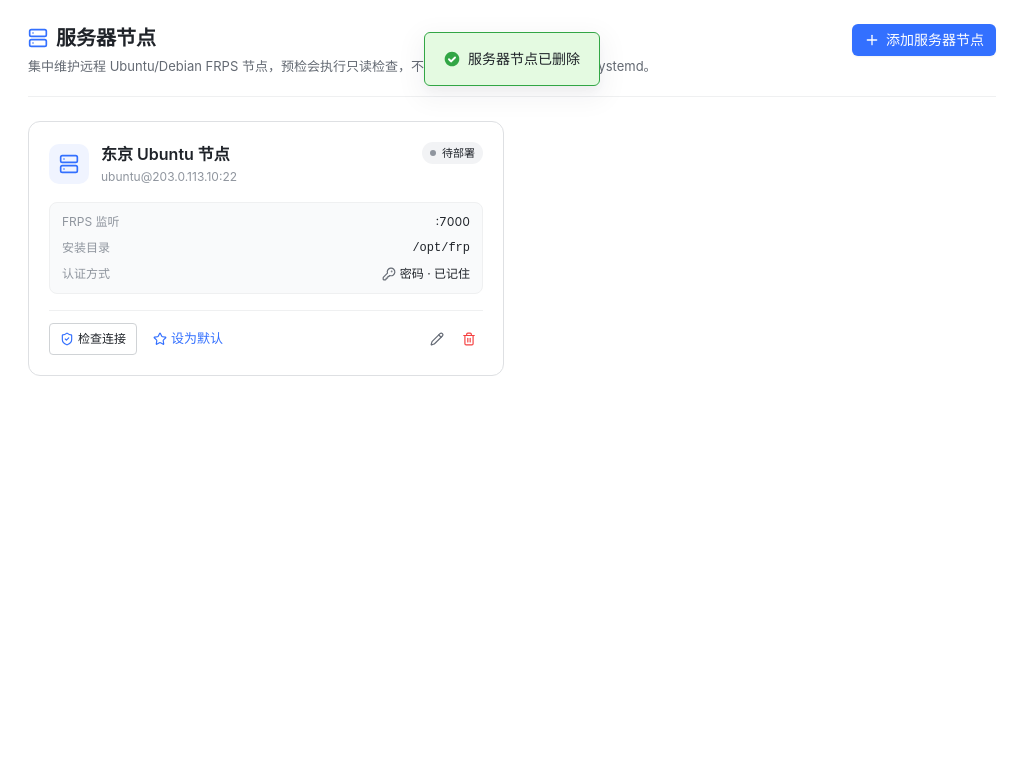
Scenario: ServerNodeManagerPage › 确认指纹后重试预检，仅保存公开结果且更新为可部署
This screenshot has width=1024, height=768.
Click the button "检查连接". click: (93, 339)
box: [49, 323, 137, 355]
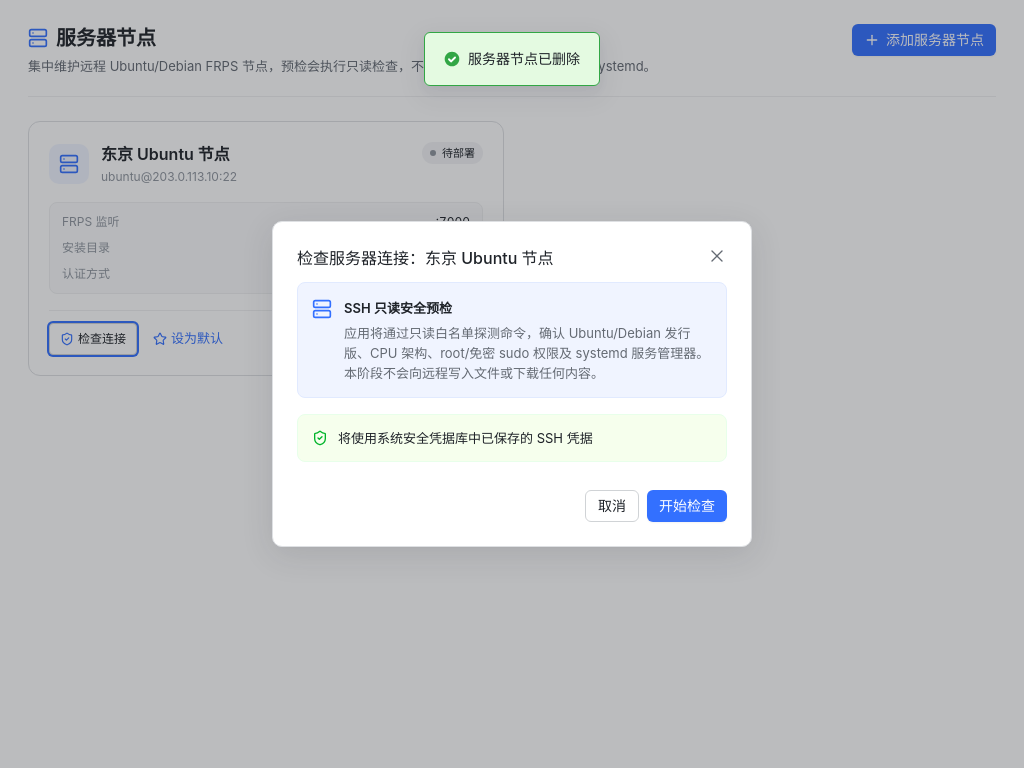
Click the button "开始检查". click: (687, 506)
box: [647, 490, 727, 522]
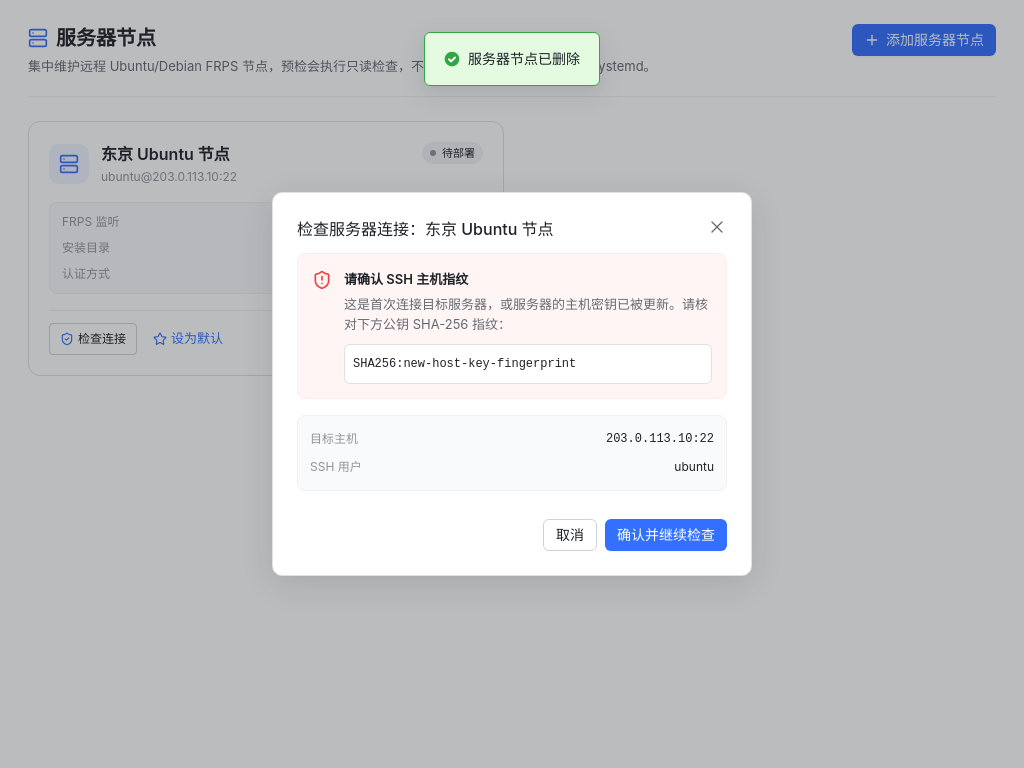
Result: the heading "请确认 SSH 主机指纹" is shown at [344, 271, 468, 287]
Click the button "确认并继续检查". click: (666, 535)
box: [605, 519, 727, 551]
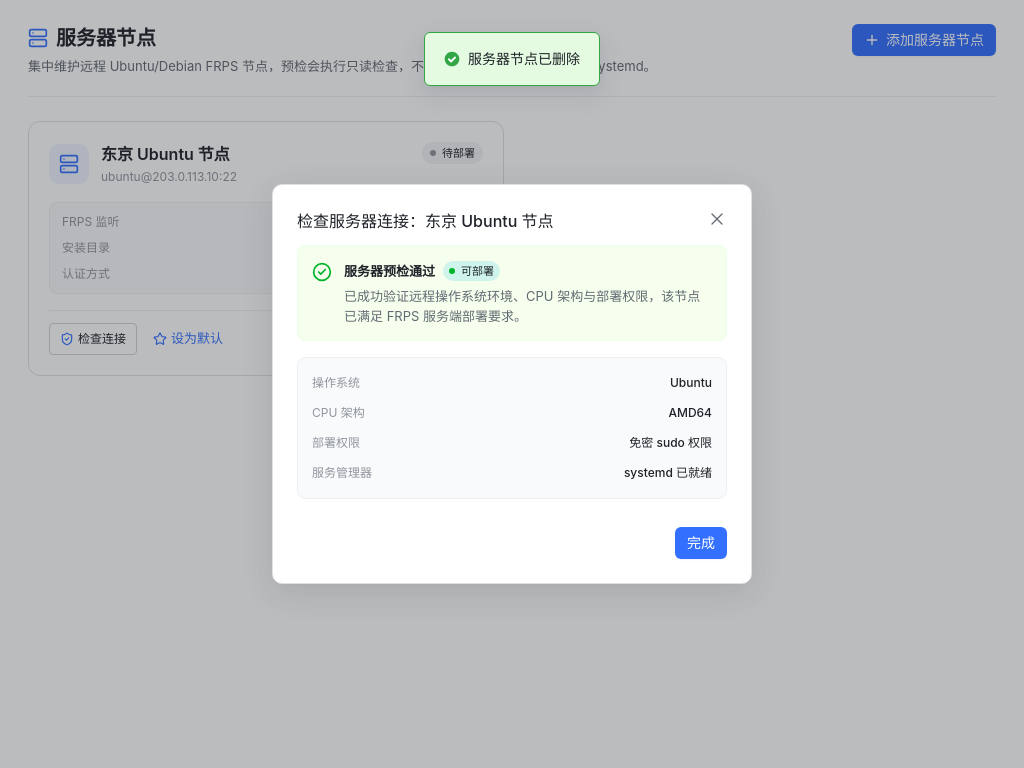
Result: the heading "服务器预检通过" is shown at [344, 260, 435, 282]
